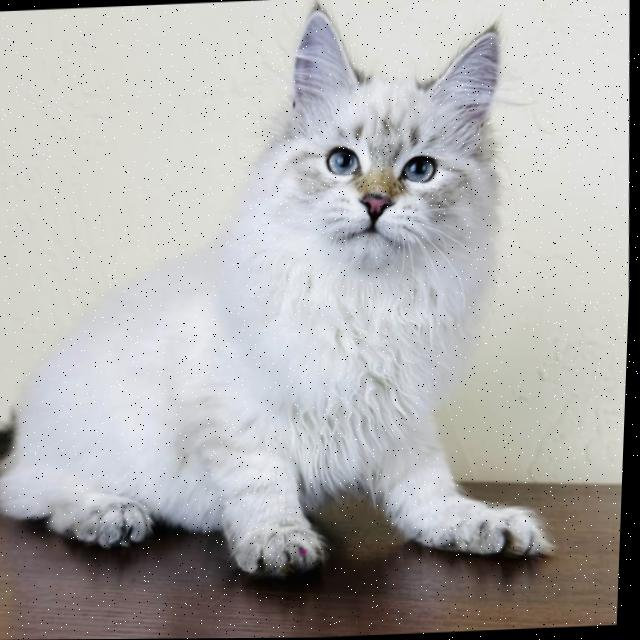Neva Masquerade: (0, 0, 581, 598)
